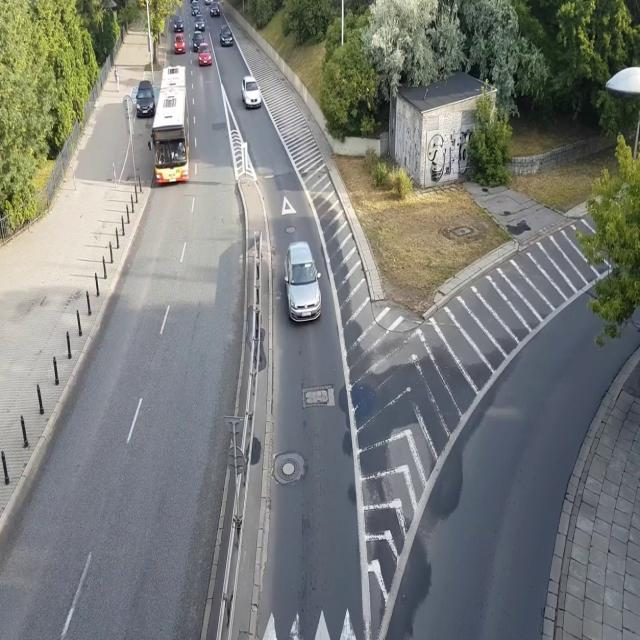bus: (148, 66, 189, 184)
car: (282, 242, 324, 328), (135, 80, 156, 118), (241, 76, 262, 110), (198, 42, 212, 68), (219, 24, 234, 48), (173, 32, 186, 55), (192, 30, 205, 51), (173, 15, 184, 33), (194, 14, 205, 30), (210, 1, 220, 17), (190, 1, 200, 16)
van: (204, 0, 212, 5)
